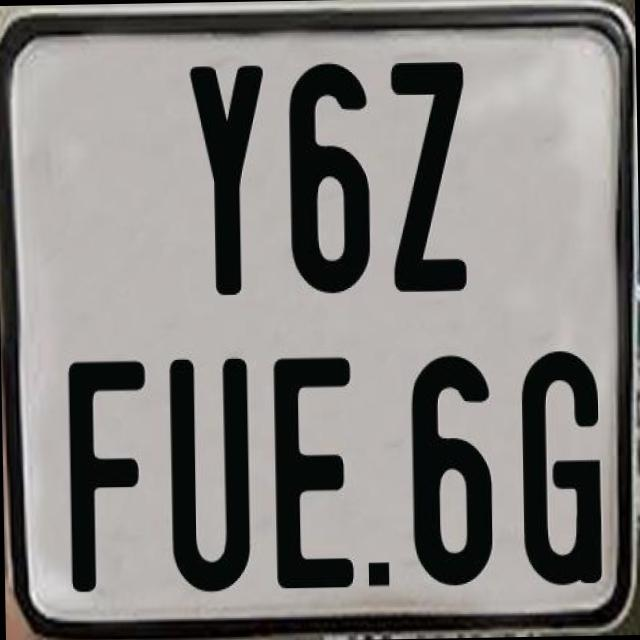6: (286, 59, 369, 298), (408, 349, 492, 582)
E: (272, 352, 360, 586)
F: (65, 356, 152, 594)
G: (519, 346, 606, 582)
U: (168, 357, 256, 593)
Y: (186, 63, 272, 298)
Z: (388, 58, 467, 293)
